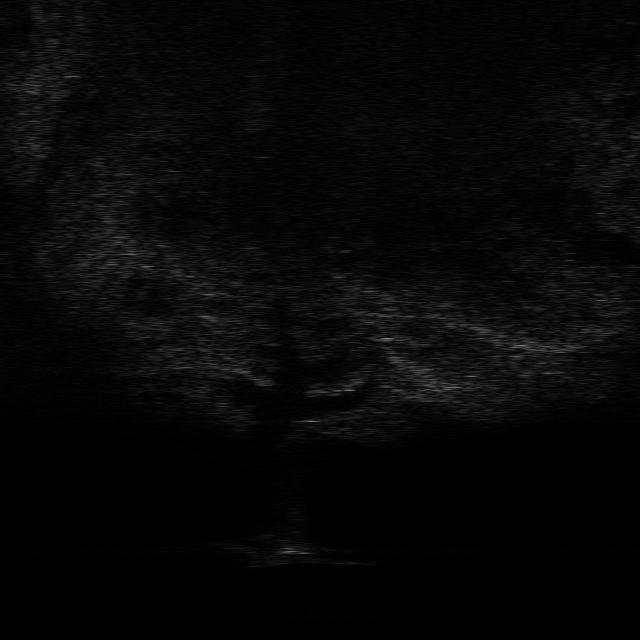plane: (220, 532, 371, 570)
